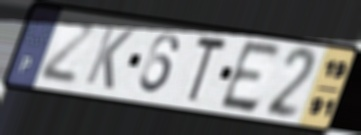2: (260, 44, 318, 122)
6: (137, 33, 181, 97)
E: (216, 38, 285, 116)
K: (82, 23, 137, 93)
T: (183, 33, 231, 106)
Z: (36, 16, 99, 87)
